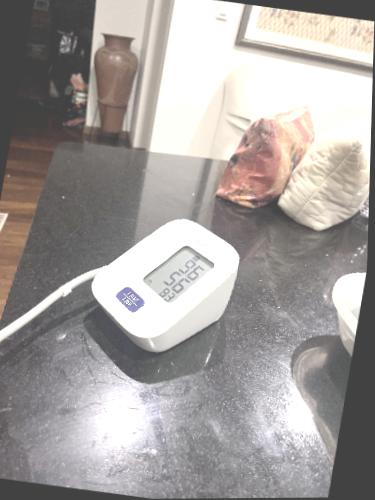bpm: (139, 232, 216, 309)
